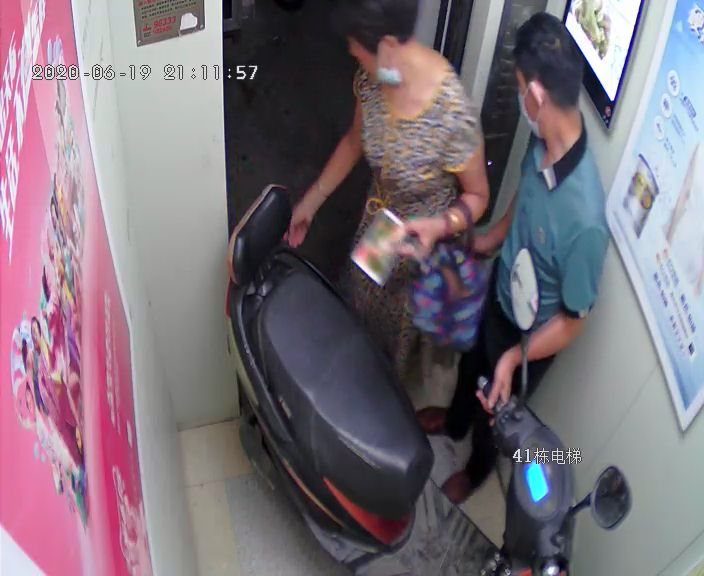Electric-bicycle: (230, 183, 625, 576)
